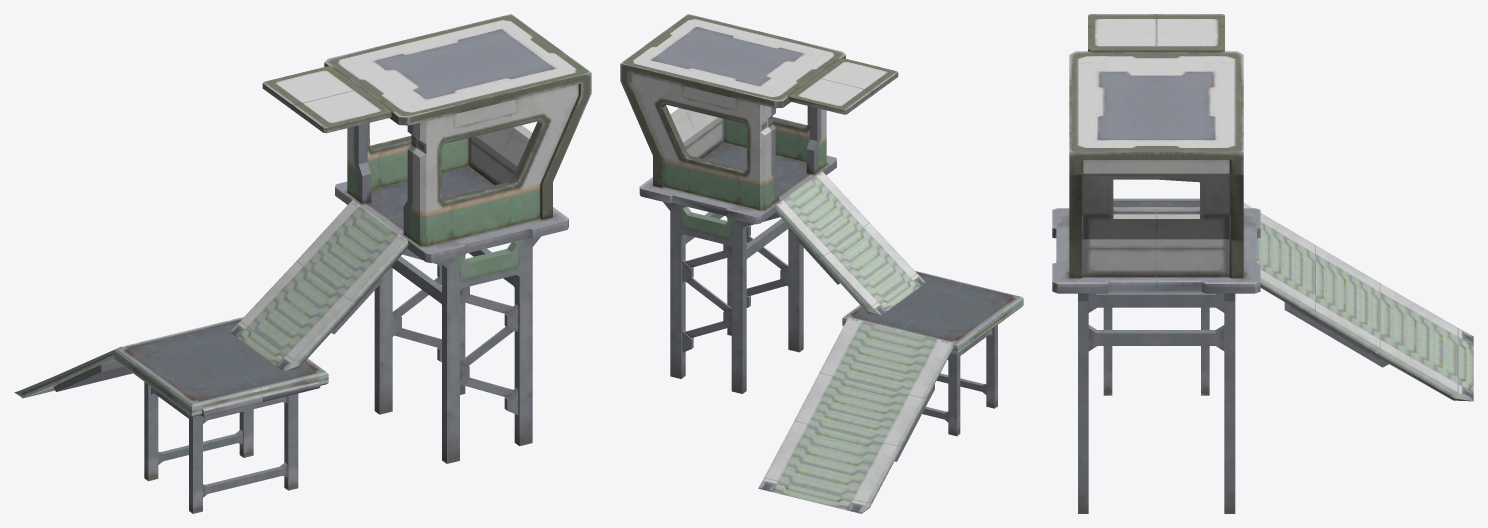
Rendered from Demo_talou.FBX.
3 renders of one model, left to right at view 1: azimuth 30°, elevation 25°; view 2: azimuth 150°, elevation 25°; view 3: azimuth 270°, elevation 25°, orthographic. The views are drawn at different scales.
Visible parts, largest first — view 1: Demo_talou; view 2: Demo_talou; view 3: Demo_talou.
Part boxes in pixels (x1,y1,x2,y2): Demo_talou: [14, 14, 591, 513]; Demo_talou: [620, 14, 1023, 513]; Demo_talou: [1052, 14, 1473, 513].
Bounding box in the file's own units: 9.53 × 8.26 × 8.03.
